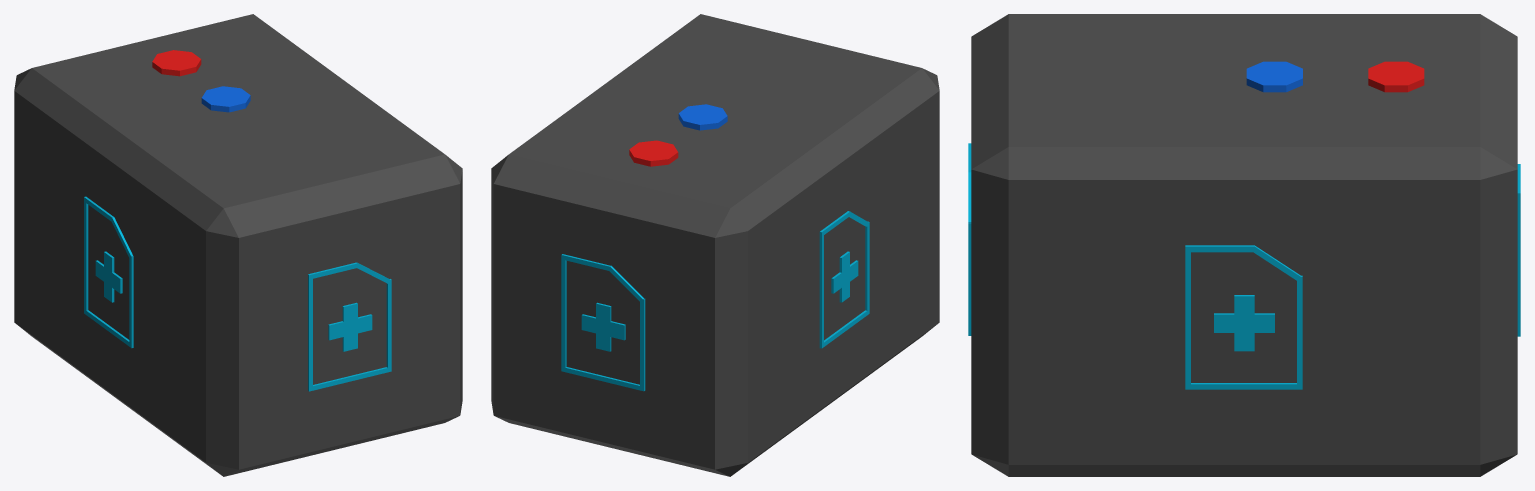
The model's file is sci-fi-ammo-crate.glb.
3 renders of one model, left to right at view 1: azimuth 30°, elevation 25°; view 2: azimuth 150°, elevation 25°; view 3: azimuth 270°, elevation 25°, orthographic. The views are drawn at different scales.
Parts seen in each view (by area): view 1: Cube, AmmoSymbol.003, AmmoSymbol.001, Button1, Button2; view 2: Cube, AmmoSymbol.002, AmmoSymbol.001, Button1, Button2; view 3: Cube, AmmoSymbol, Button1, Button2, AmmoSymbol.003, AmmoSymbol.002.
Boxes of the visible parts, bbox=[...] form: Cube: bbox=[14, 14, 462, 476]; AmmoSymbol.003: bbox=[308, 262, 391, 391]; AmmoSymbol.001: bbox=[84, 196, 133, 348]; Button1: bbox=[152, 50, 201, 76]; Button2: bbox=[201, 86, 250, 112]; Cube: bbox=[491, 14, 939, 476]; AmmoSymbol.002: bbox=[561, 254, 645, 391]; AmmoSymbol.001: bbox=[819, 211, 869, 348]; Button1: bbox=[629, 140, 678, 166]; Button2: bbox=[678, 104, 727, 130]; Cube: bbox=[971, 14, 1517, 476]; AmmoSymbol: bbox=[1185, 245, 1302, 389]; Button1: bbox=[1368, 61, 1424, 92]; Button2: bbox=[1246, 61, 1302, 92]; AmmoSymbol.003: bbox=[968, 143, 971, 335]; AmmoSymbol.002: bbox=[1517, 164, 1520, 336].
Size of the model in its own units: 1.22 by 1.23 by 1.82.
